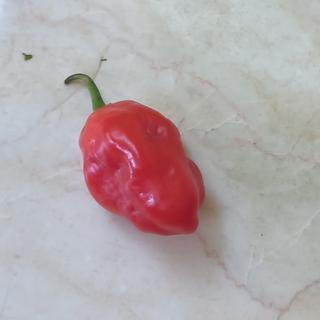Grade-A: (78, 98, 209, 238)
